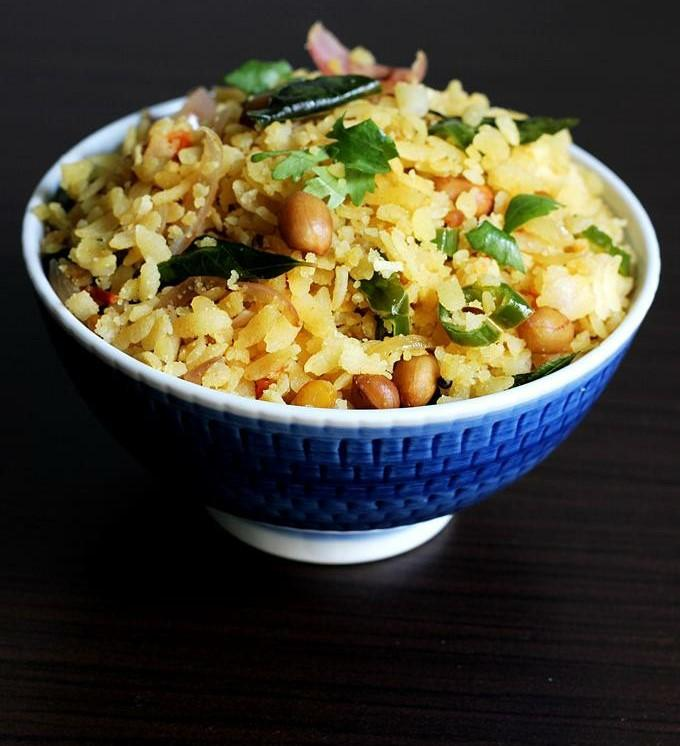Poha: (39, 23, 637, 413)
